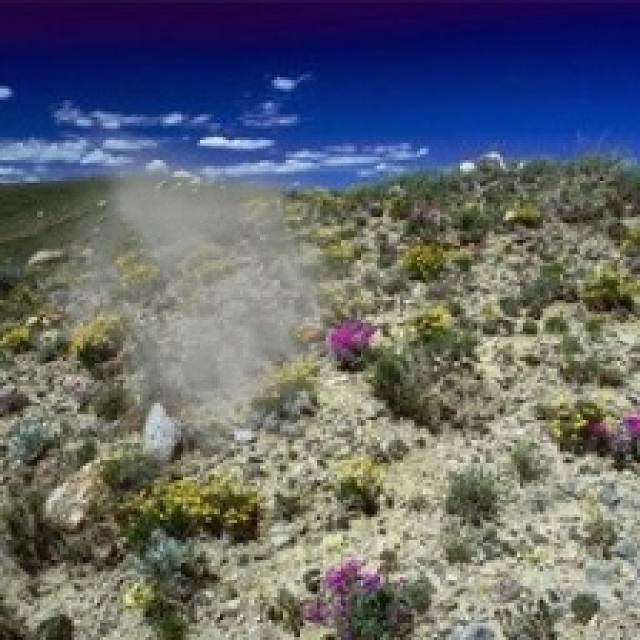Smoke: (22, 140, 388, 486)
